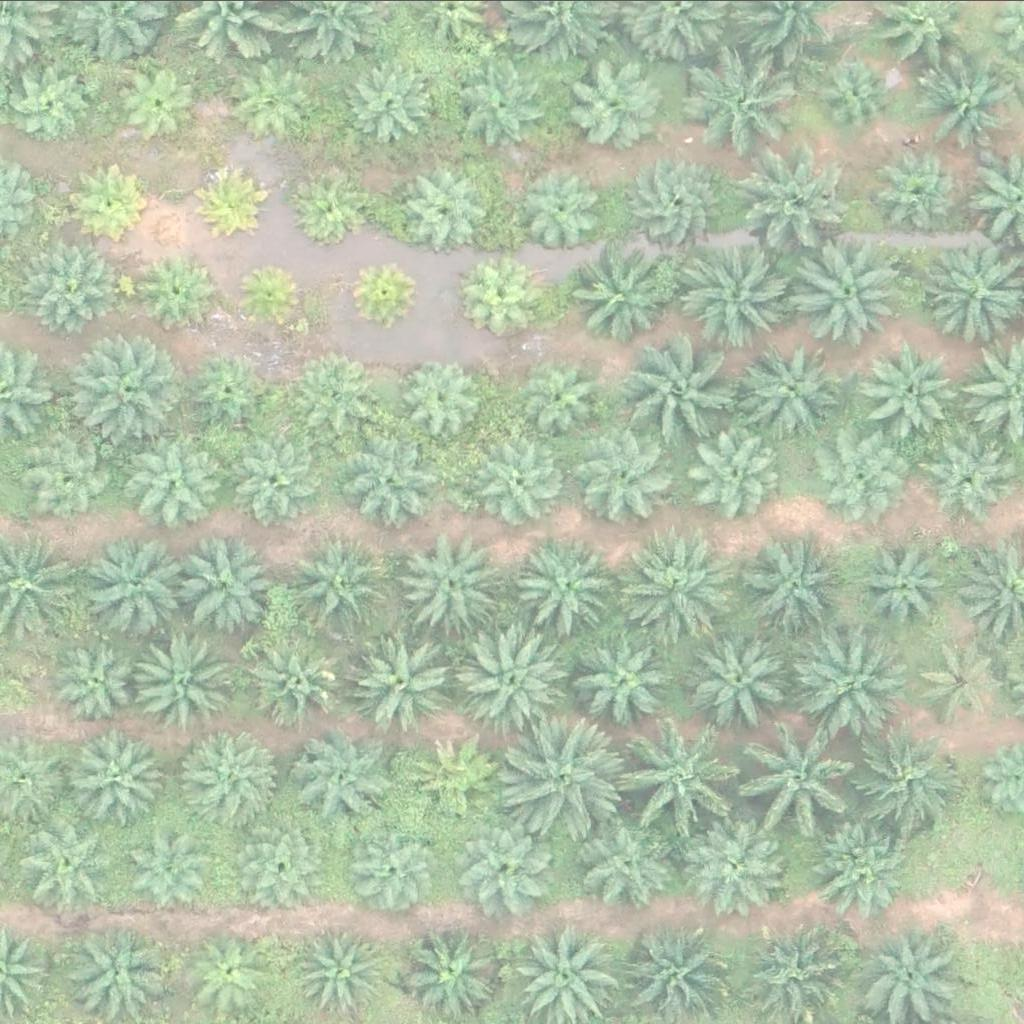Kelapa_Sawit: (788, 240, 902, 353), (518, 531, 631, 644), (627, 530, 740, 643), (684, 620, 797, 733), (69, 332, 182, 445), (510, 721, 623, 834), (684, 238, 798, 350), (729, 144, 842, 256), (623, 340, 736, 452), (462, 620, 575, 732), (800, 623, 913, 735), (635, 720, 748, 832), (753, 720, 866, 832), (851, 725, 964, 837), (696, 59, 797, 159), (572, 246, 673, 346), (740, 343, 841, 443), (577, 422, 678, 522), (397, 533, 498, 633), (577, 626, 678, 726), (687, 809, 788, 909), (806, 822, 907, 922), (89, 537, 190, 637), (172, 532, 273, 632), (345, 632, 446, 732), (289, 533, 390, 633), (341, 426, 442, 526), (137, 630, 238, 730), (174, 726, 275, 826), (65, 921, 166, 1021), (562, 52, 662, 152), (630, 154, 730, 254), (580, 805, 680, 905), (404, 921, 504, 1021), (292, 725, 392, 825), (20, 809, 120, 909), (745, 533, 846, 632), (348, 829, 437, 917), (813, 50, 901, 138), (404, 169, 492, 257), (873, 343, 961, 431), (476, 443, 564, 531), (184, 347, 272, 435), (302, 347, 390, 435), (112, 61, 200, 149), (235, 56, 323, 144), (140, 437, 228, 525), (232, 436, 320, 524), (48, 634, 136, 722), (133, 826, 221, 914), (237, 822, 325, 910), (300, 920, 388, 1008), (461, 65, 550, 152), (916, 633, 1005, 720), (520, 168, 608, 255), (882, 146, 970, 233), (400, 352, 488, 439), (524, 355, 612, 442), (919, 441, 1007, 528), (807, 432, 895, 519), (692, 429, 780, 516), (858, 538, 946, 625), (453, 823, 541, 910), (10, 59, 98, 146), (344, 58, 432, 145), (20, 244, 108, 331), (29, 432, 117, 519), (254, 640, 342, 727), (78, 731, 166, 818), (187, 927, 275, 1014), (414, 732, 502, 819), (290, 175, 366, 250), (470, 258, 546, 333), (343, 253, 419, 328), (194, 160, 270, 235), (136, 250, 211, 325), (233, 258, 308, 333), (72, 160, 147, 235)
